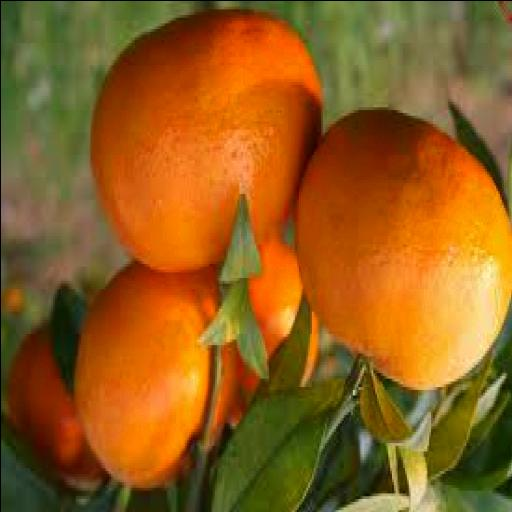orange: (91, 12, 321, 271), (298, 110, 511, 388), (76, 263, 218, 486), (9, 325, 103, 486), (249, 241, 302, 355), (1, 283, 23, 313)
